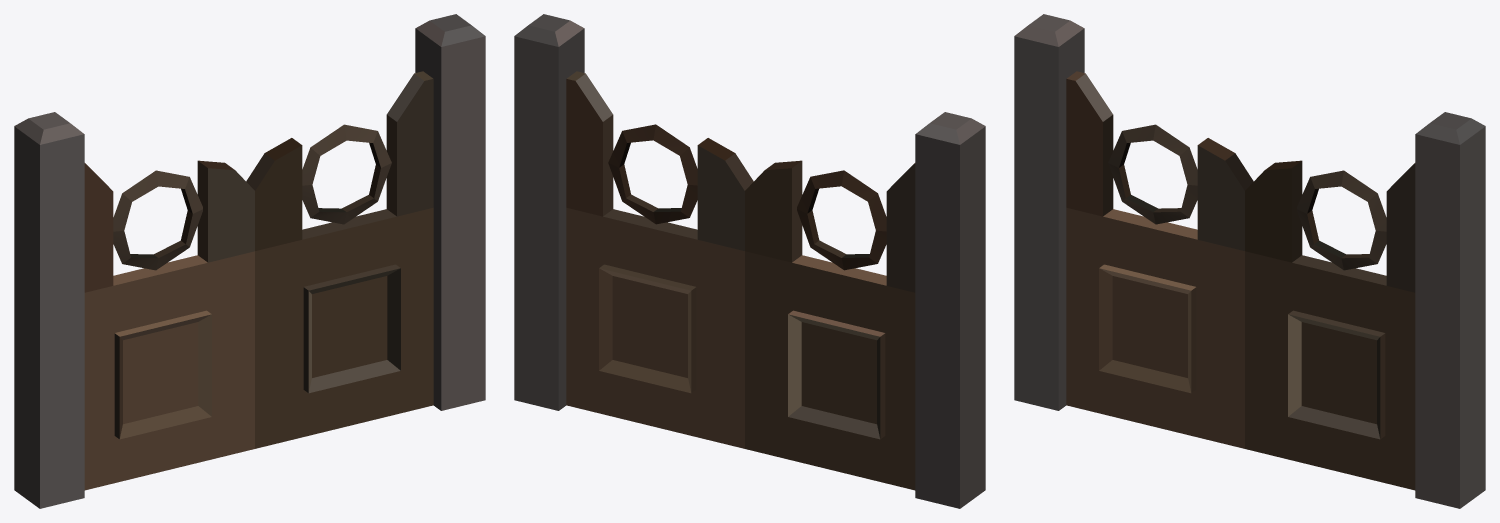
The model's file is MidWall-GateLOD1.fbx.
The picture shows the model from 3 angles, left to right: view 1: azimuth 30°, elevation 25°; view 2: azimuth 150°, elevation 25°; view 3: azimuth 330°, elevation 25°; orthographic projection.
Parts seen in each view (by area): view 1: MidWall-GateLOD1; view 2: MidWall-GateLOD1; view 3: MidWall-GateLOD1.
Boxes of the visible parts, x1,y1,x2,y2 form: MidWall-GateLOD1: [14, 14, 485, 508]; MidWall-GateLOD1: [514, 14, 985, 508]; MidWall-GateLOD1: [1014, 14, 1485, 508].
Bounding box in the file's own units: 250 × 200 × 25.
